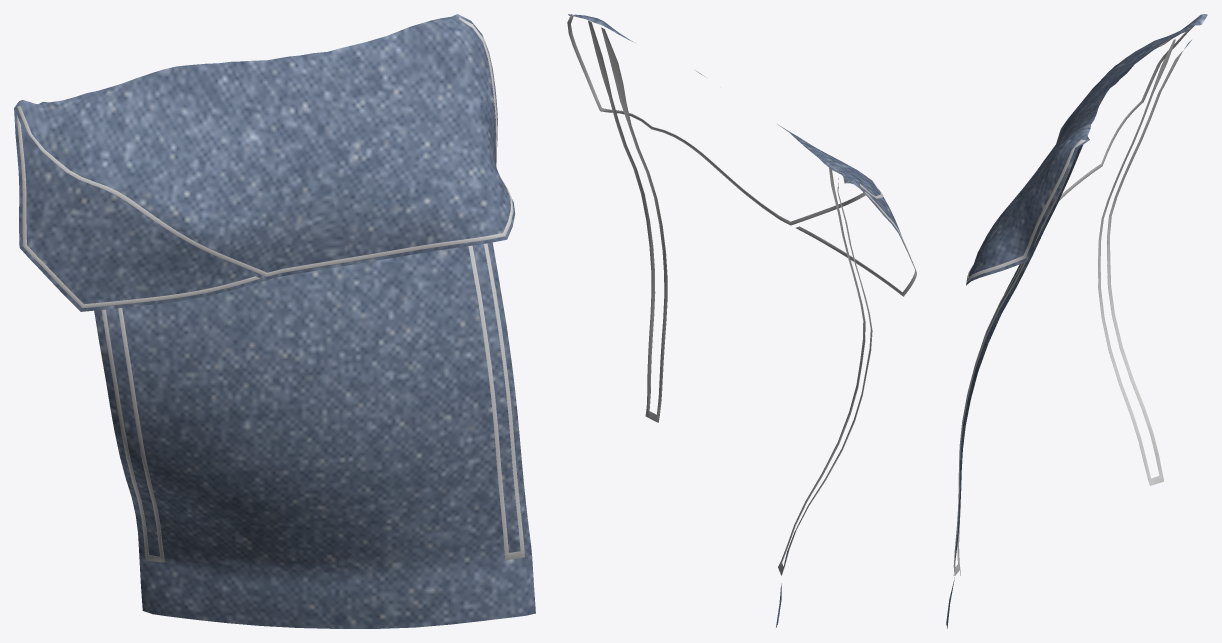
File: Jac_Pocket_LEFT_V1.glb
The picture shows the model from 3 angles, left to right: view 1: azimuth 30°, elevation 25°; view 2: azimuth 150°, elevation 25°; view 3: azimuth 270°, elevation 25°; orthographic projection. The views are drawn at different scales.
Parts seen in each view (by area): view 1: Jac_Pocket_LEFT_V1.001, Jac_Rope_Pocket_LEFT_V1.001; view 2: Jac_Rope_Pocket_LEFT_V1.001, Jac_Pocket_LEFT_V1.001; view 3: Jac_Pocket_LEFT_V1.001, Jac_Rope_Pocket_LEFT_V1.001.
Part boxes in pixels (bbox=[...]): Jac_Pocket_LEFT_V1.001: bbox=[14, 14, 535, 628]; Jac_Rope_Pocket_LEFT_V1.001: bbox=[17, 17, 524, 562]; Jac_Rope_Pocket_LEFT_V1.001: bbox=[567, 14, 916, 575]; Jac_Pocket_LEFT_V1.001: bbox=[568, 14, 914, 627]; Jac_Pocket_LEFT_V1.001: bbox=[946, 14, 1207, 628]; Jac_Rope_Pocket_LEFT_V1.001: bbox=[953, 15, 1200, 575].
Bounding box in the file's own units: 0.215 × 0.2731 × 0.1267.
Materials: 2 (2 with a texture image).
